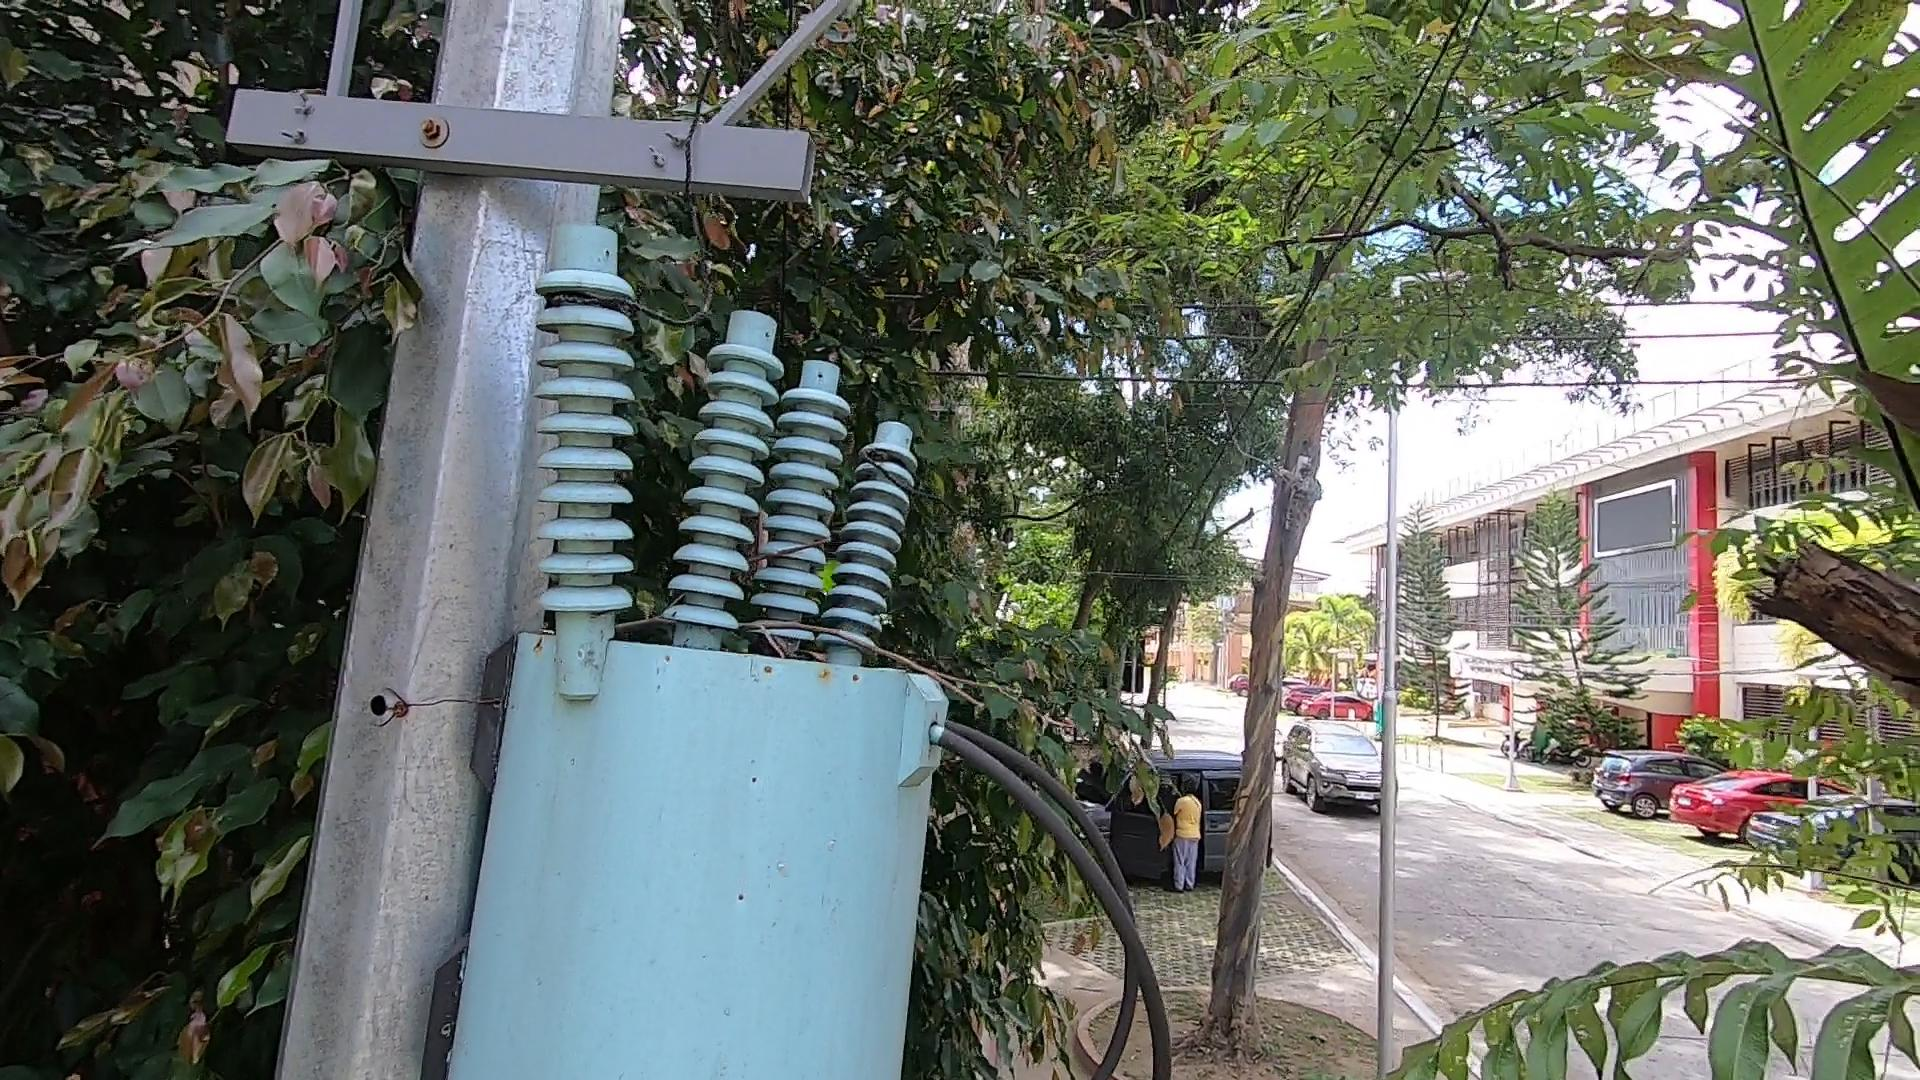leaf: (731, 625, 810, 669)
tree branch: (611, 593, 1077, 744)
